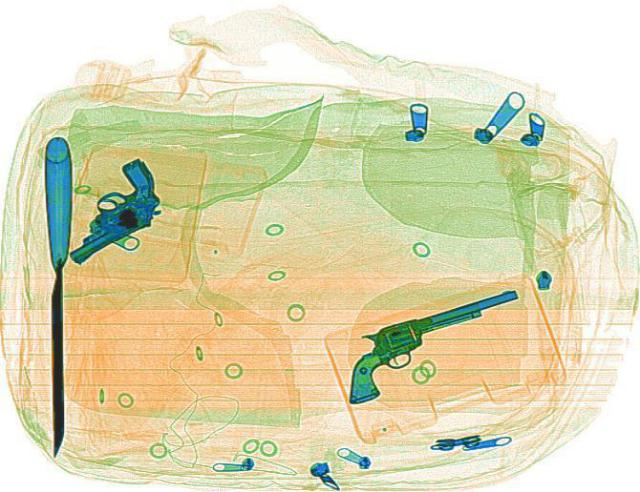Gun: (314, 286, 550, 403), (23, 155, 189, 263)
Knife: (42, 133, 74, 454)
